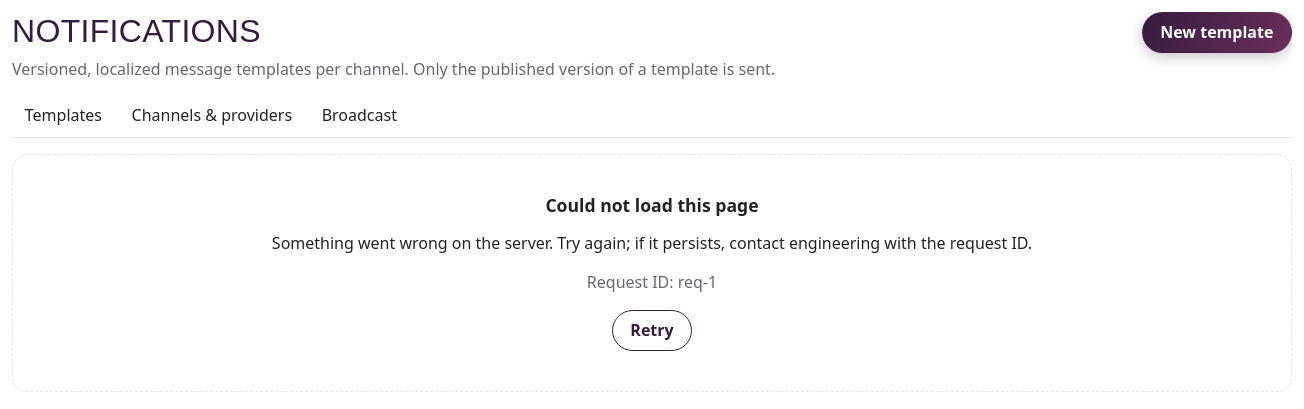
Test case: TemplatesPage › shows the error with a working retry
expect the text "Something went wrong on the server. Try again; if it persists, contact engineering with the request ID." is shown: met, box [272,232,1032,254]
Click the button "Retry" at [652, 331], box [612,310,692,351]
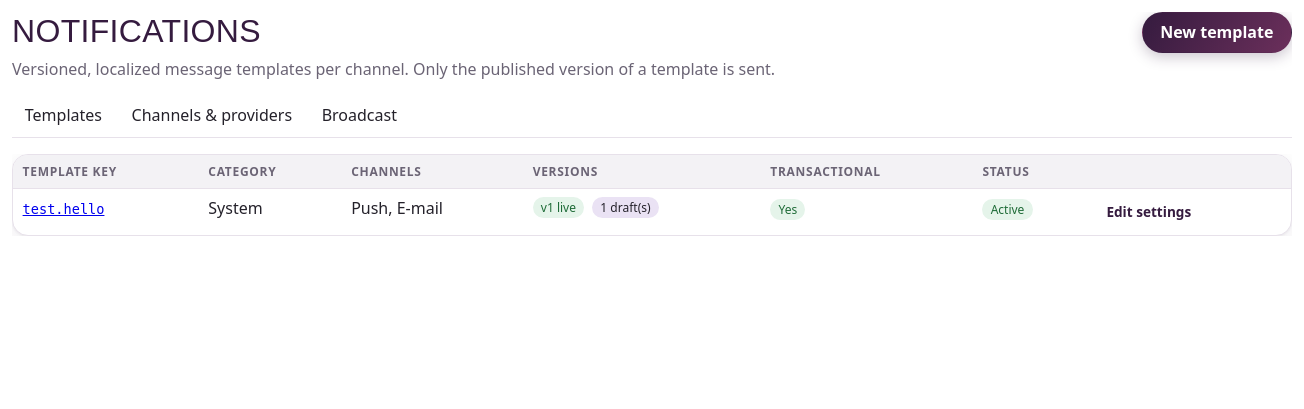
expect the link "test.hello" is shown: met, box [23,197,104,219]
